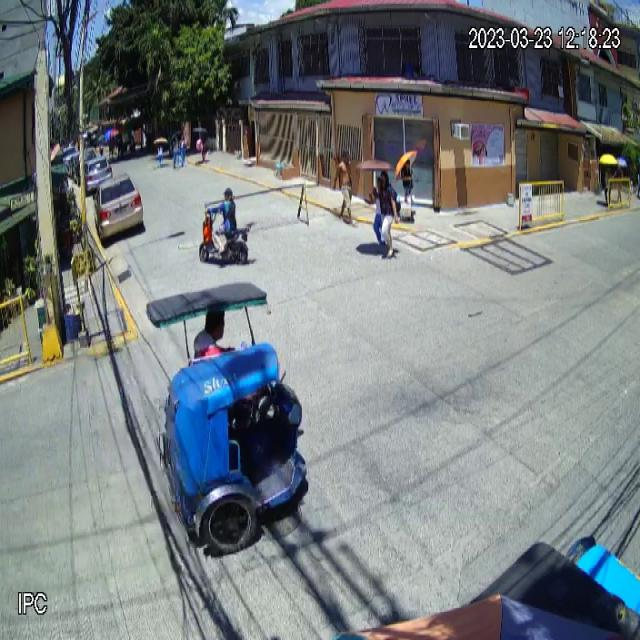Car: (92, 172, 144, 242)
Tricycle: (145, 281, 308, 553)
